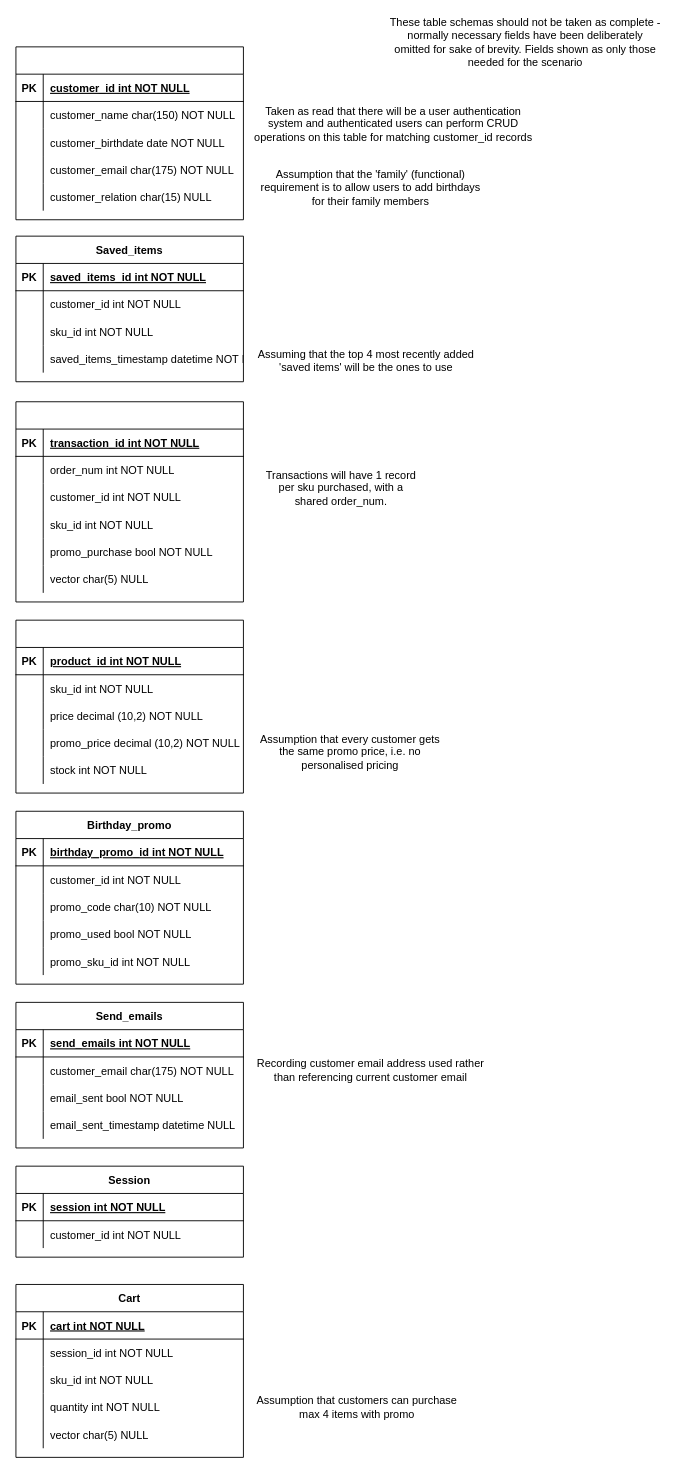
Image size: 678x1473. Some labels were removed from this diagram. The box of each missing label's shape, as (x1, y1, x2, y2) in pixels:
Customers: (15, 46, 243, 220)
Products: (15, 619, 243, 793)
Transactions: (15, 401, 243, 602)
